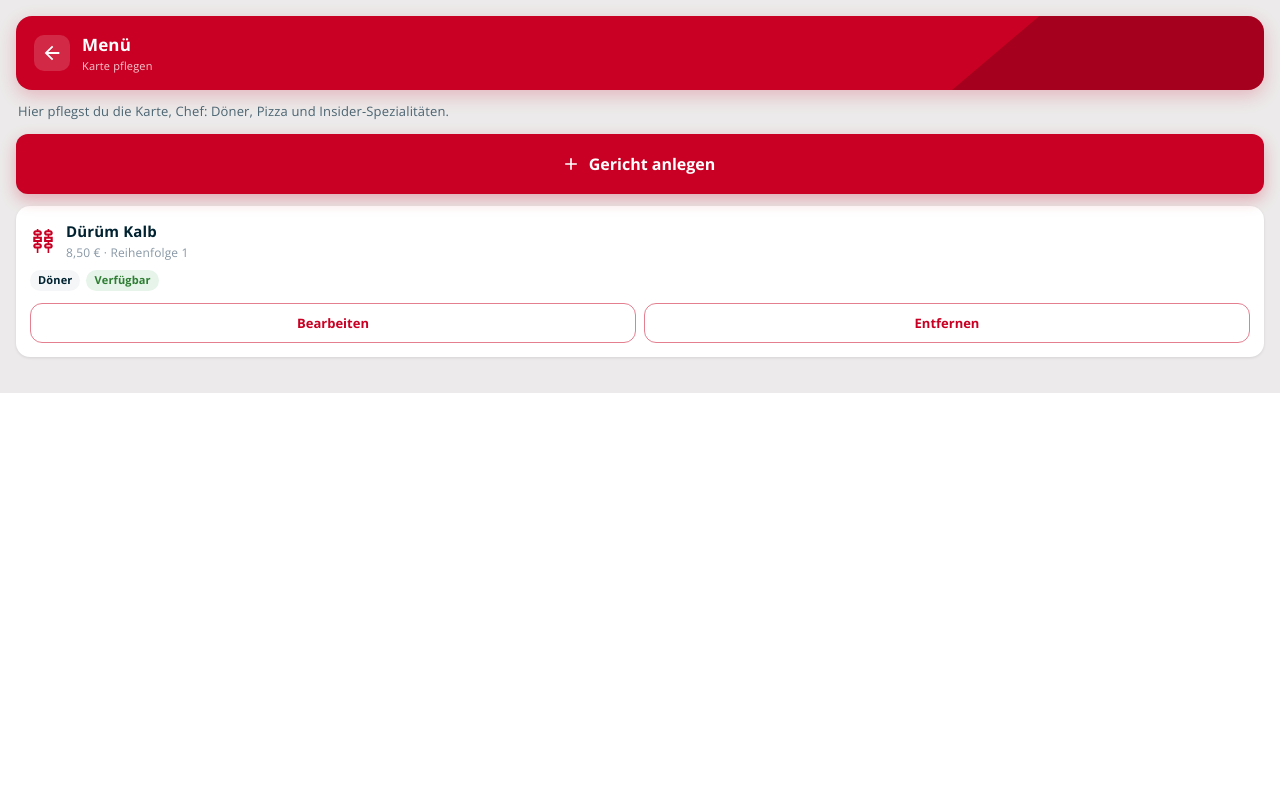
Test: AdminMenuPage › blockiert das Speichern mit leerem Preis und zeigt den Validierungsfehler
The image size is (1280, 800).
Expected: the text "Dürüm Kalb" is shown, [66, 220, 157, 240]
Click the button "Bearbeiten".
click(333, 323)  # box [30, 302, 636, 343]
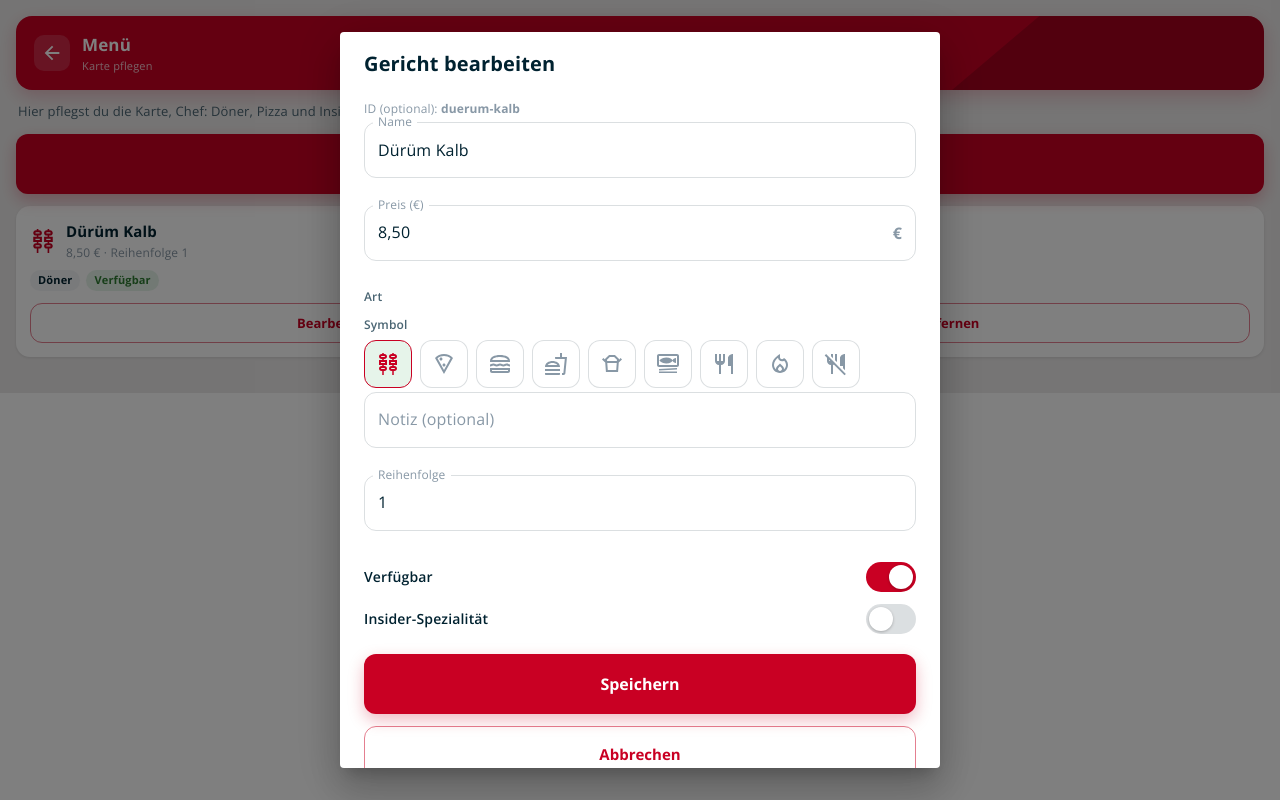
Clear the field labelled "Preis (€)" at {"x": 624, "y": 233}, box [364, 205, 885, 261]
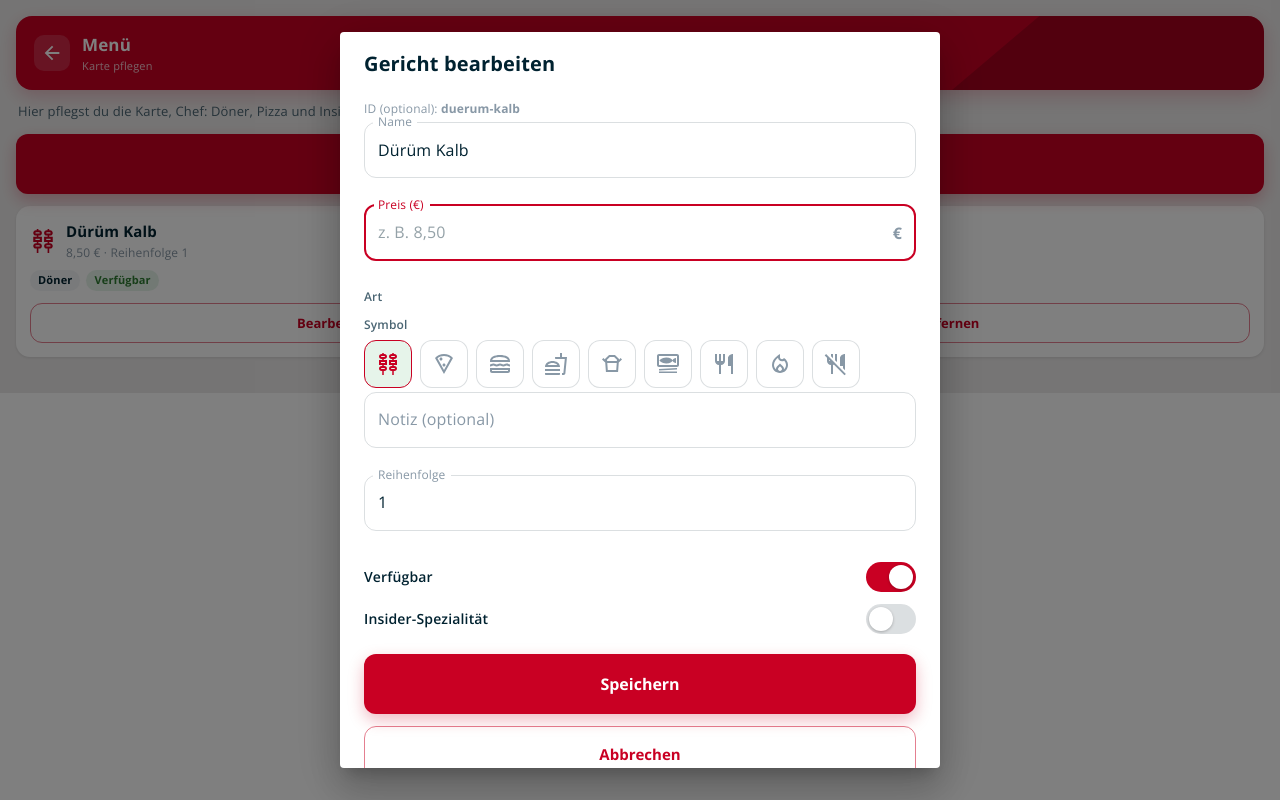
Click the button "Speichern".
click(640, 684)  # box [364, 654, 916, 714]
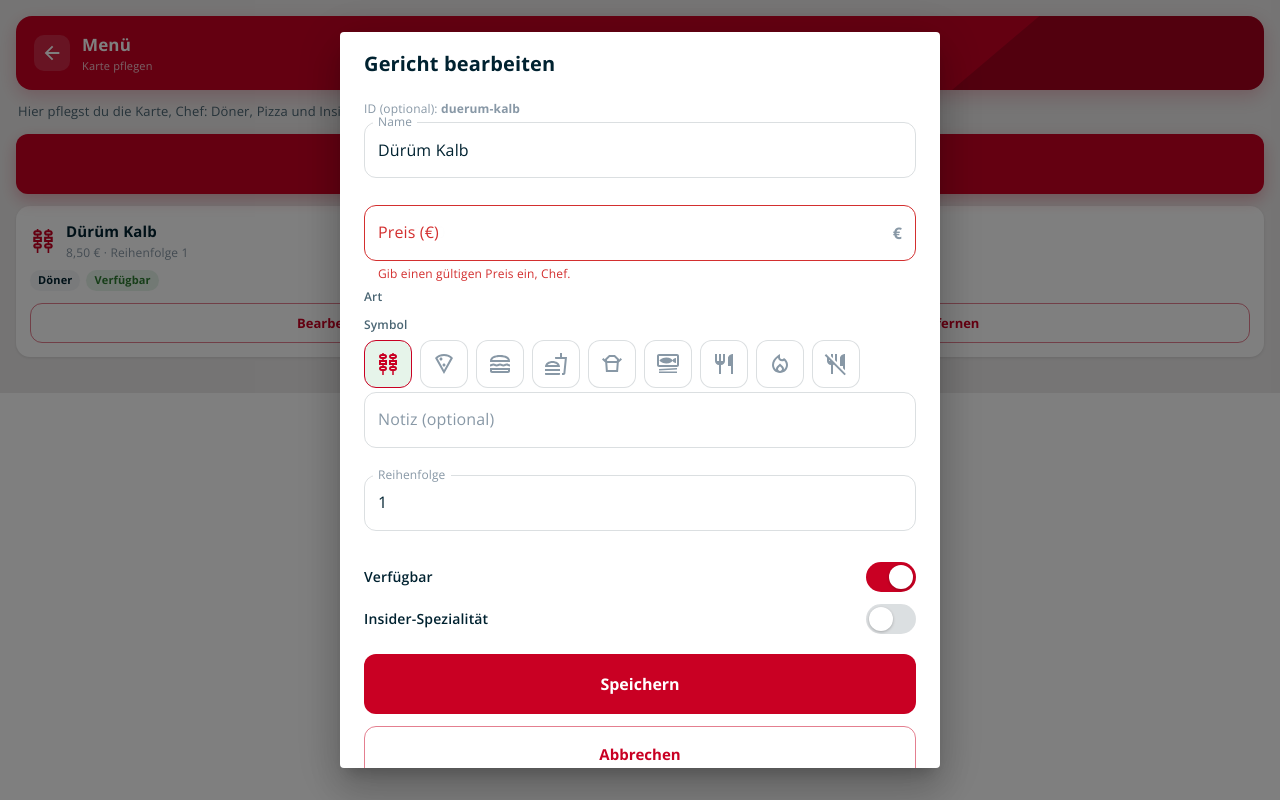
Expected: the text "Gib einen gültigen Preis ein, Chef." is shown, [378, 265, 571, 282]
